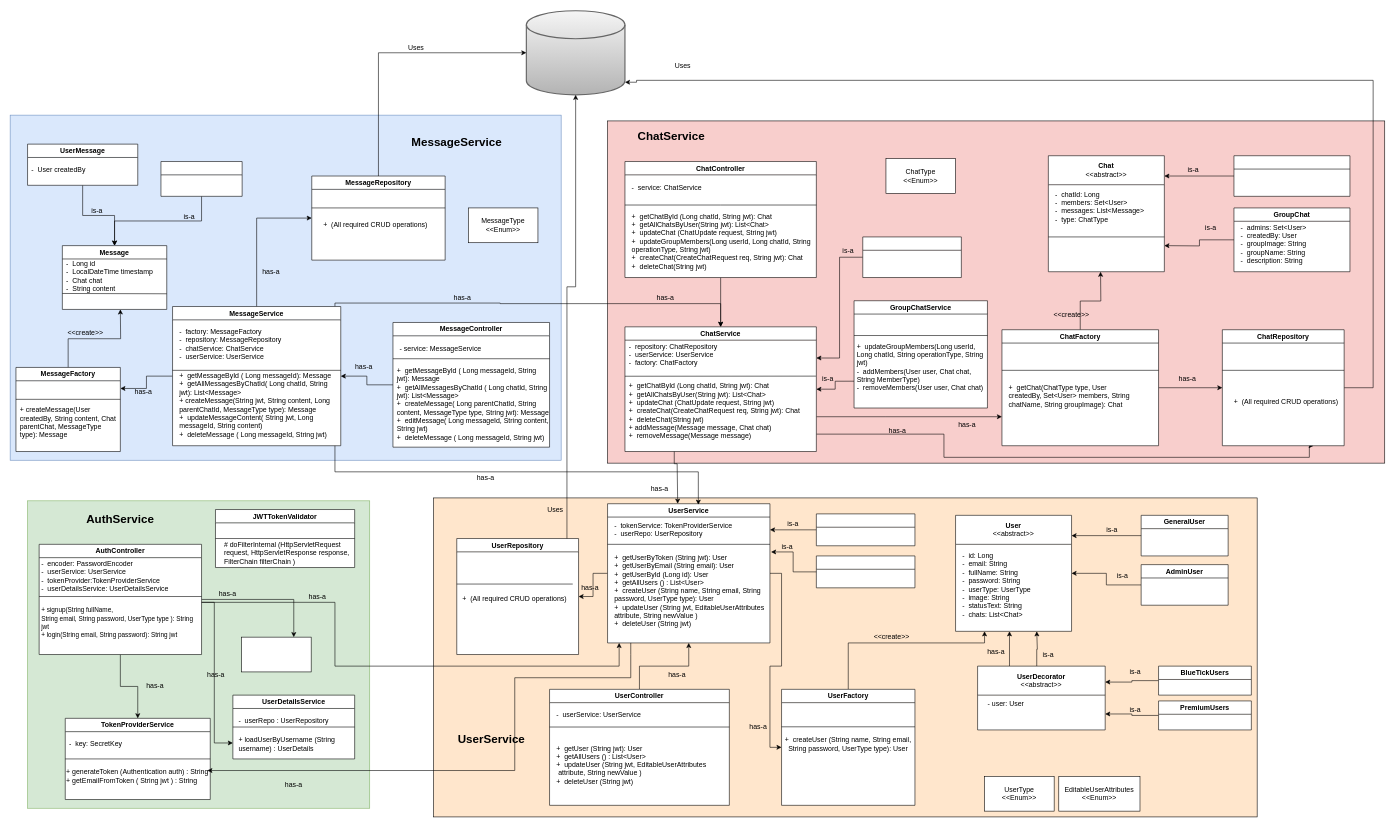
The diagram is 1395 pixels wide and 827 high, and some of its shapes have lost their labels. The centre of each missing label's shape, as x and y in pixels:
"AdminUserService" belongs at pixel 865 571.
"DirectChat" belongs at pixel 1291 175.
"DirectChatService" belongs at pixel 911 257.
"GeneralUserService" belongs at pixel 865 529.
"PasswordEncoder (BCrypt)" belongs at pixel 276 654.
"SystemMessage" belongs at pixel 201 178.
"WhatsAppDB" belongs at pixel 575 52.
